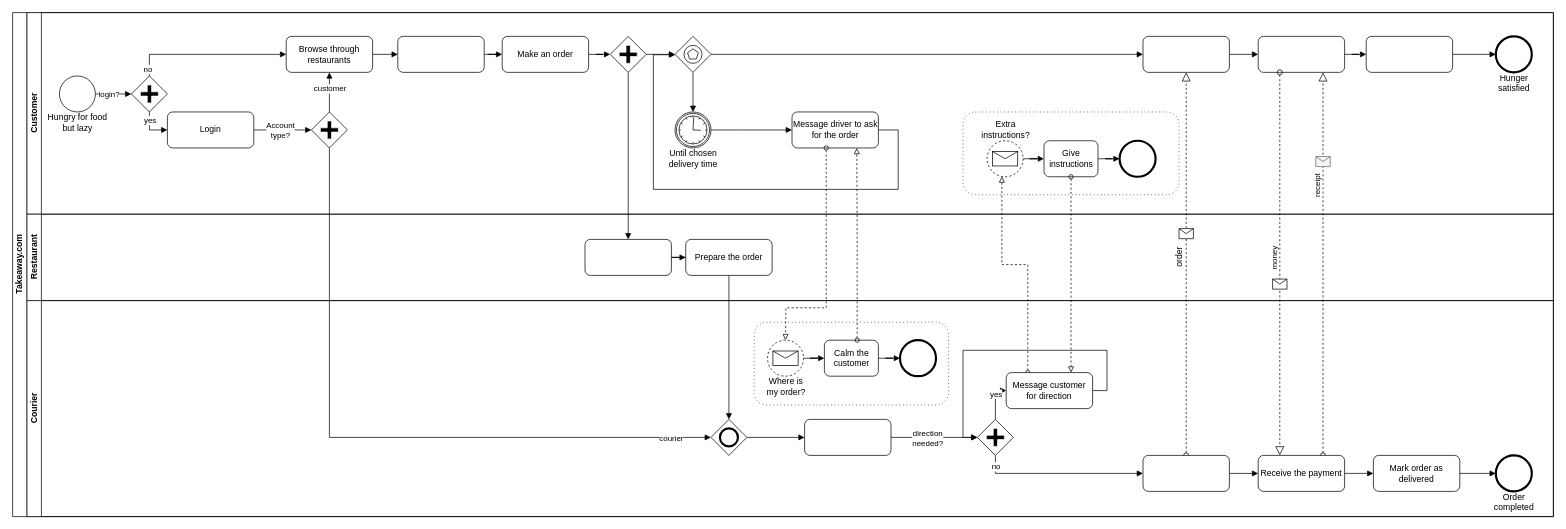
Image size: 1566x529. Some labels were removed from this diagram. Here are the shapes that lost their labels. From the top down, the centre of each, then its label:
At point (440, 54): "Choose a restaurant".
At point (1185, 54): "Order received".
At point (1301, 54): "Pay the bill".
At point (1409, 54): "Eat the food".
At point (627, 257): "Take the order".
At point (847, 437): "Pickup order".
At point (1185, 473): "Deliver the order".
